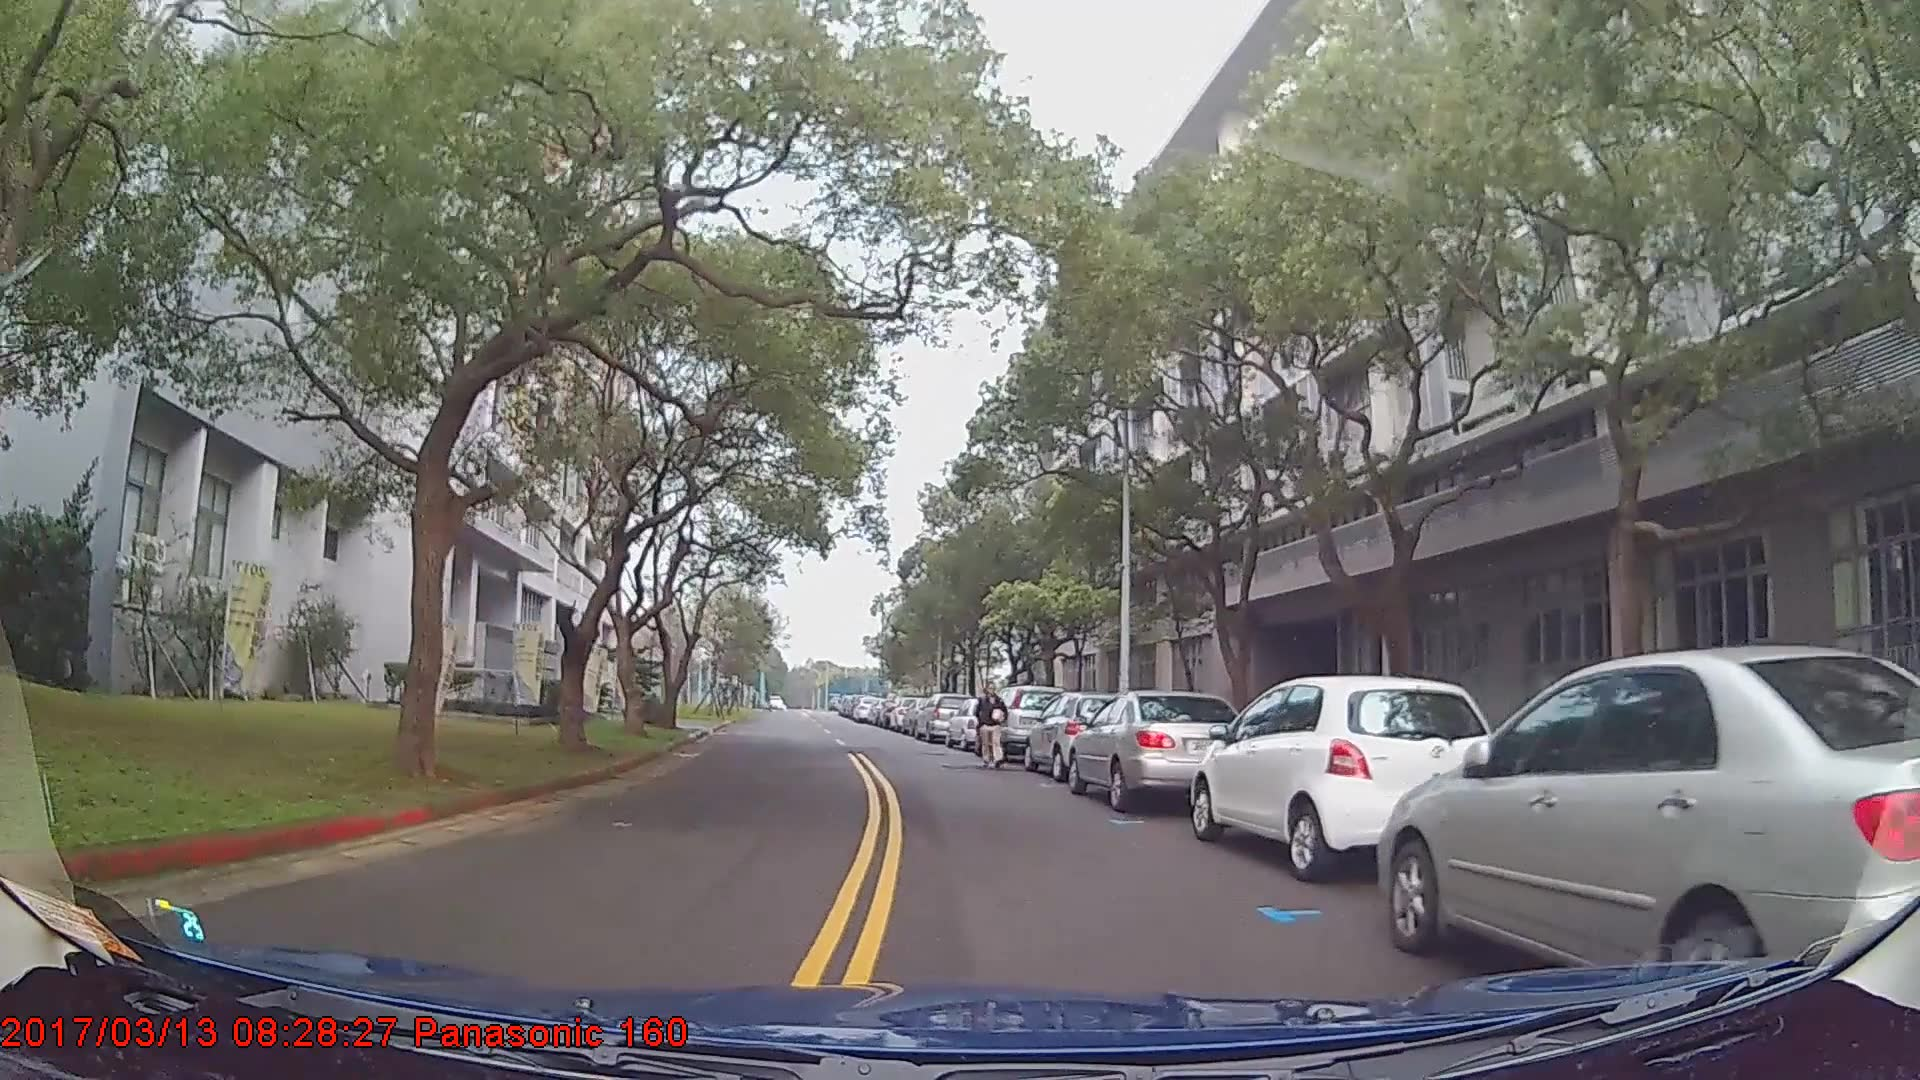pedestrian: (976, 676, 1011, 766)
vehicle: (1379, 641, 1920, 1016), (1191, 670, 1504, 881), (1065, 687, 1250, 810), (1023, 687, 1143, 779), (982, 682, 1067, 758), (912, 691, 970, 742)
